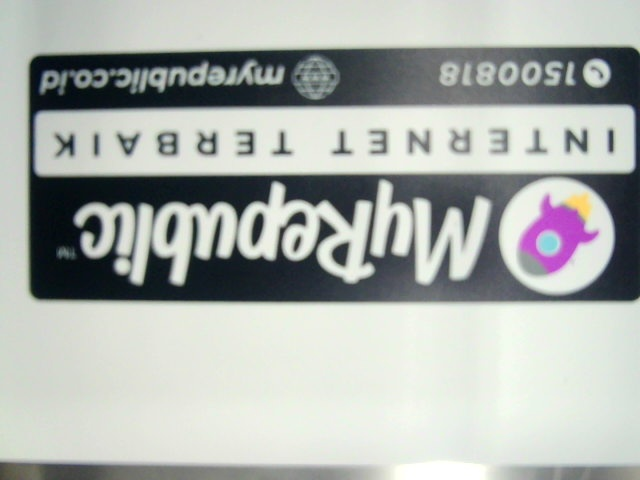BD_MyRepublic: (21, 37, 639, 311)
